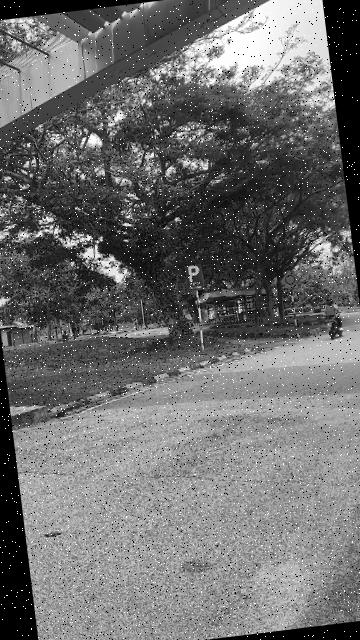motorcycle: (321, 294, 346, 341)
